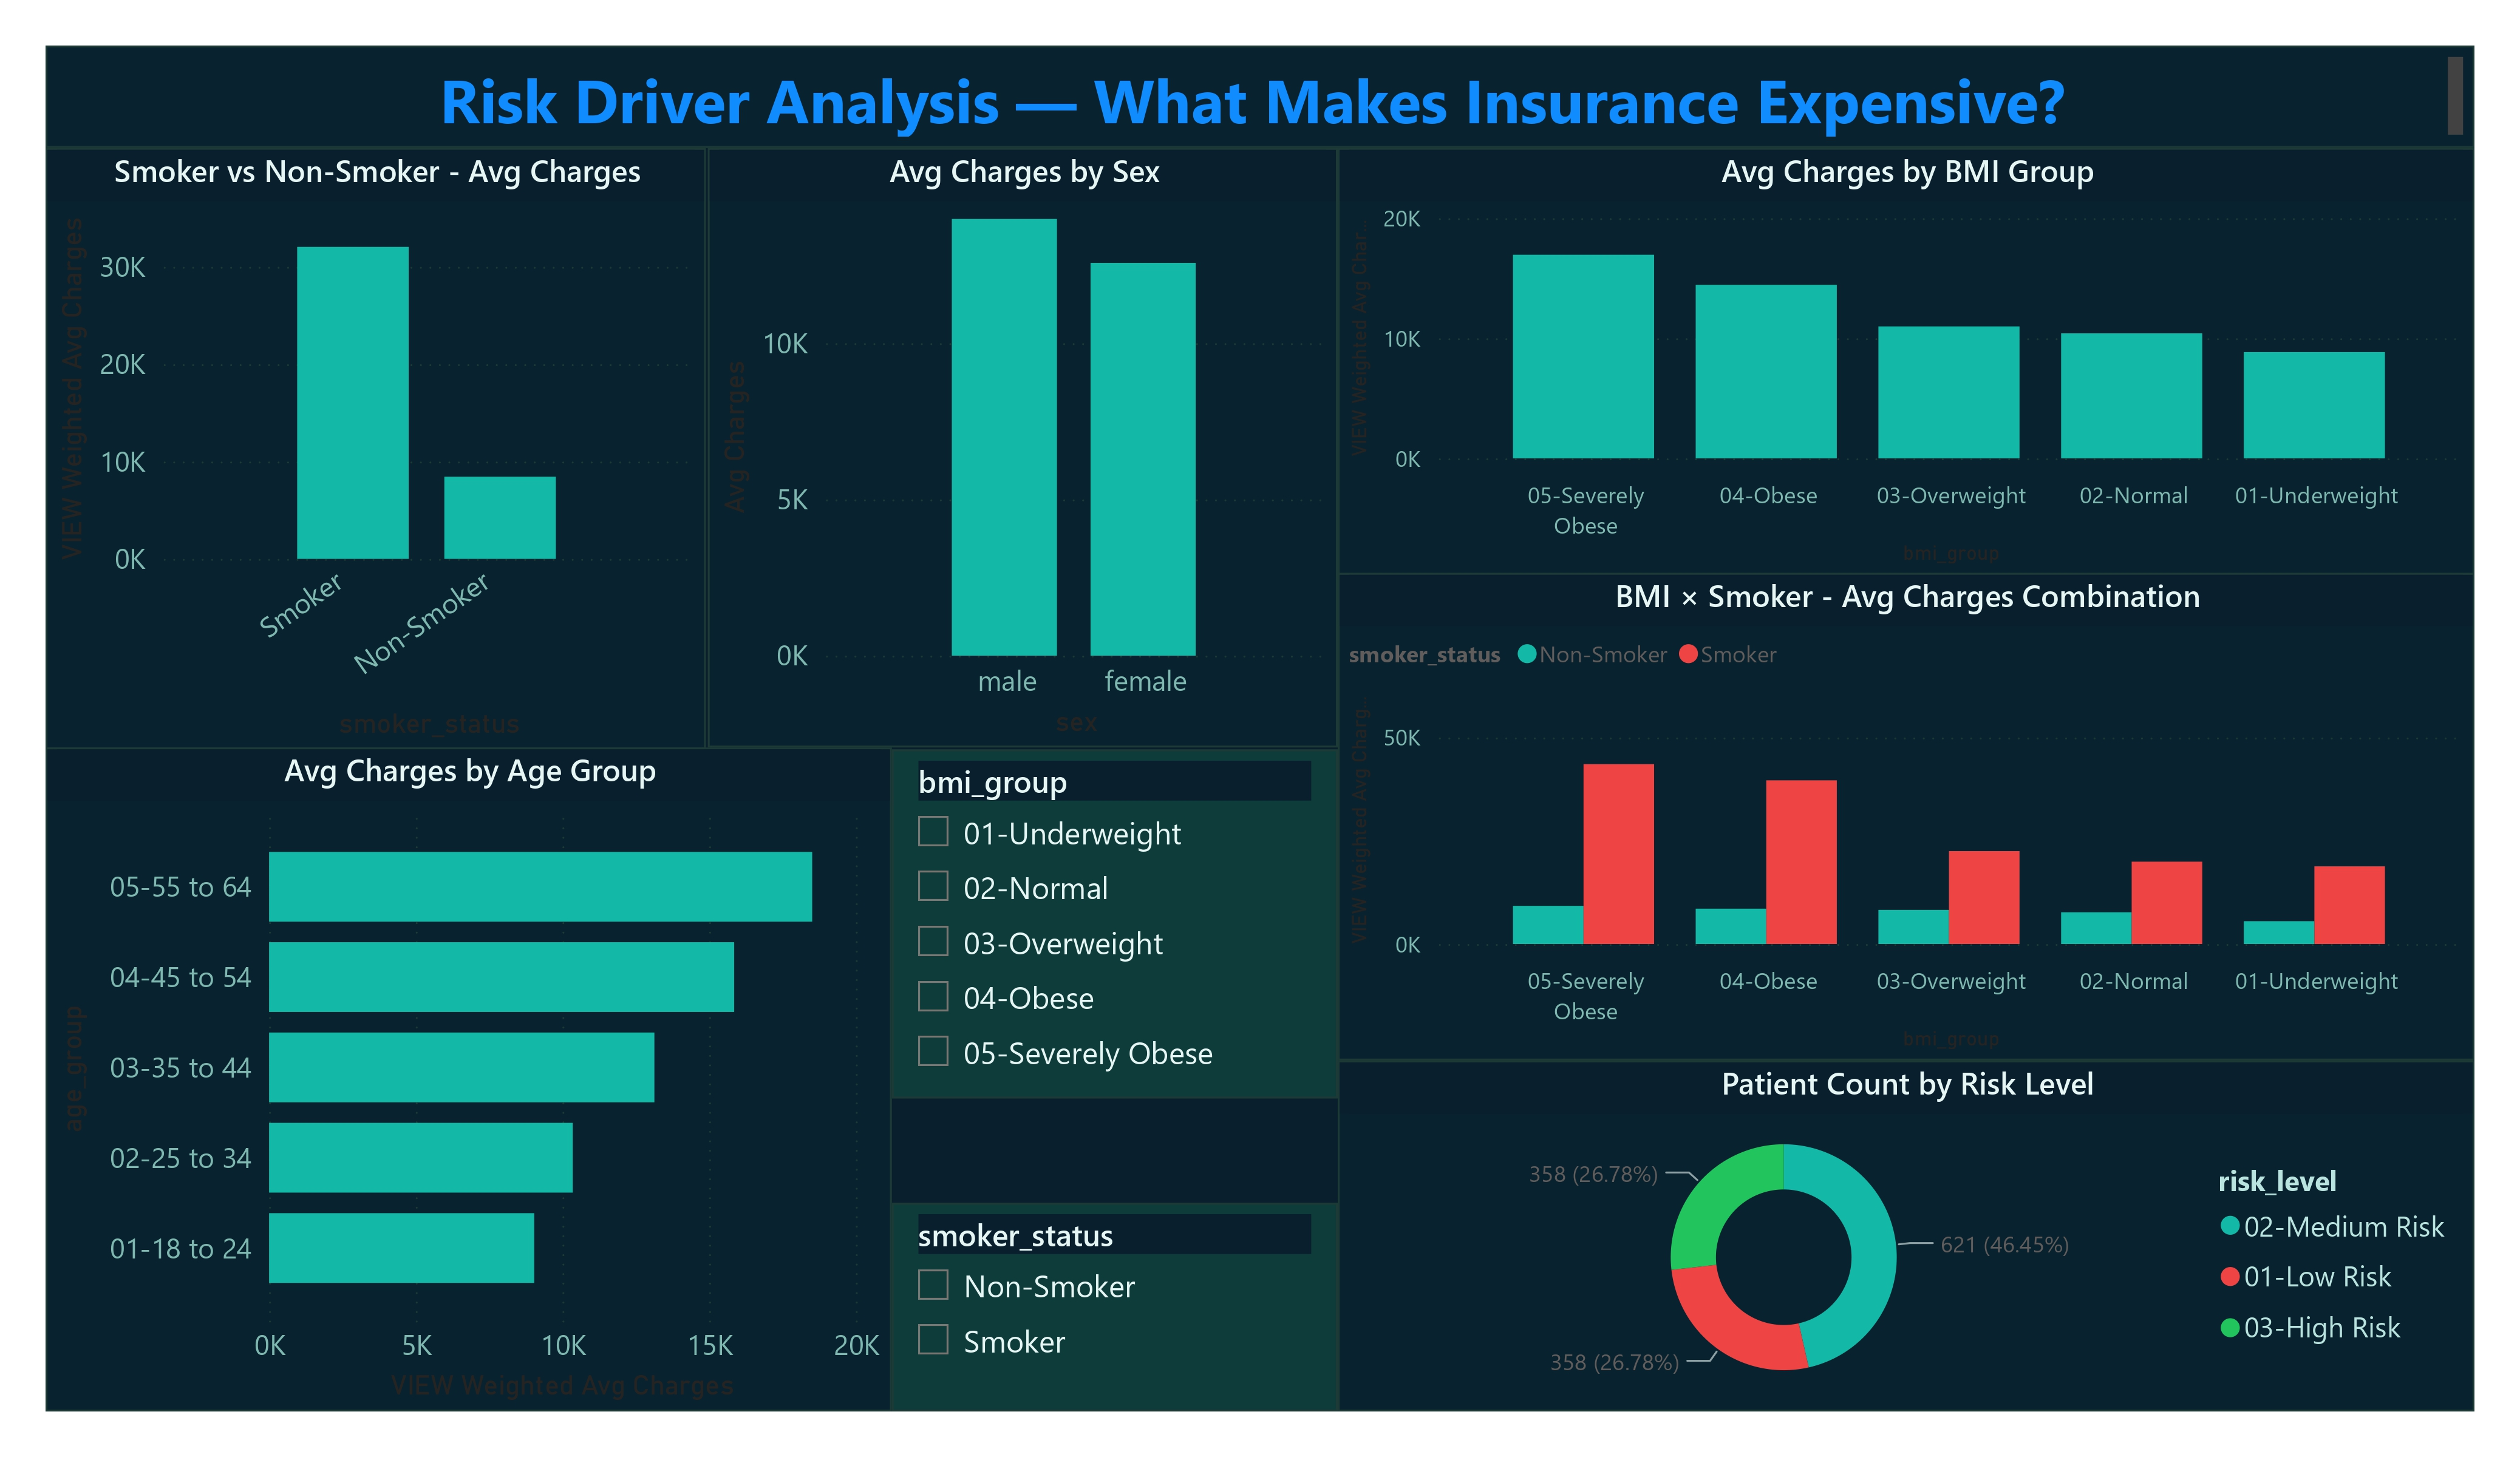

Layout of this report page (visuals, bound fields, positions):
{"tool":"powerbi","page":{"name":"Risk Driver Analysis","canvas":[1280,720],"ordinal":1},"visuals":[{"type":"textbox","box":[0,0,1280.3,54],"z":0},{"type":"clusteredColumnChart","title":"Smoker vs Non-Smoker - Avg Charges","fields":{"Category":["vw_insurance_summary.smoker_status"],"Y":["vw_insurance_summary.VIEW Weighted Avg Charges"]},"box":[0,54.1,348.3,316.7],"z":1},{"type":"clusteredBarChart","title":"Avg Charges by Age Group","fields":{"Category":["vw_insurance_summary.age_group"],"Y":["vw_insurance_summary.VIEW Weighted Avg Charges"]},"box":[0,370.4,446.2,350],"z":2},{"type":"clusteredColumnChart","title":"Avg Charges by BMI Group","fields":{"Category":["vw_insurance_summary.bmi_group"],"Y":["vw_insurance_summary.VIEW Weighted Avg Charges"]},"box":[681,54,599.3,224.6],"z":3},{"type":"donutChart","title":"Patient Count by Risk Level","fields":{"Category":["vw_insurance_summary.risk_level"],"Y":["Sum(vw_insurance_summary.total_patients)"]},"box":[681,535.2,599.3,185.2],"z":4},{"type":"clusteredColumnChart","title":"Avg Charges by Sex","fields":{"Category":["insurance_claims.sex"],"Y":["insurance_claims.Avg Charges"]},"box":[348.5,54,332.5,316.4],"z":5},{"type":"slicer","fields":{"Values":["vw_insurance_summary.smoker_status"]},"box":[446.2,609.5,234.8,110.8],"z":6},{"type":"slicer","fields":{"Values":["vw_insurance_summary.bmi_group"]},"box":[446.4,370.7,234.9,184.8],"z":7},{"type":"clusteredColumnChart","title":"BMI × Smoker - Avg Charges Combination","fields":{"Category":["vw_insurance_summary.bmi_group"],"Series":["vw_insurance_summary.smoker_status"],"Y":["vw_insurance_summary.VIEW Weighted Avg Charges"]},"box":[680.8,278.4,599.6,257],"z":8}]}

Visuals, with their boxes on the page's 1280x720 design canvas (x1, y1, x2, y2). These are canvas units, not pixel positions in the 2520x1457 screenshot, which may show the page scaled, cropped or inside an application window:
textbox: 0:0:1280:54
"Smoker vs Non-Smoker - Avg Charges" clusteredColumnChart: 0:54:348:371
"Avg Charges by Age Group" clusteredBarChart: 0:370:446:720
"Avg Charges by BMI Group" clusteredColumnChart: 681:54:1280:279
"Patient Count by Risk Level" donutChart: 681:535:1280:720
"Avg Charges by Sex" clusteredColumnChart: 348:54:681:370
slicer - vw_insurance_summary.smoker_status: 446:610:681:720
slicer - vw_insurance_summary.bmi_group: 446:371:681:556
"BMI × Smoker - Avg Charges Combination" clusteredColumnChart: 681:278:1280:535
